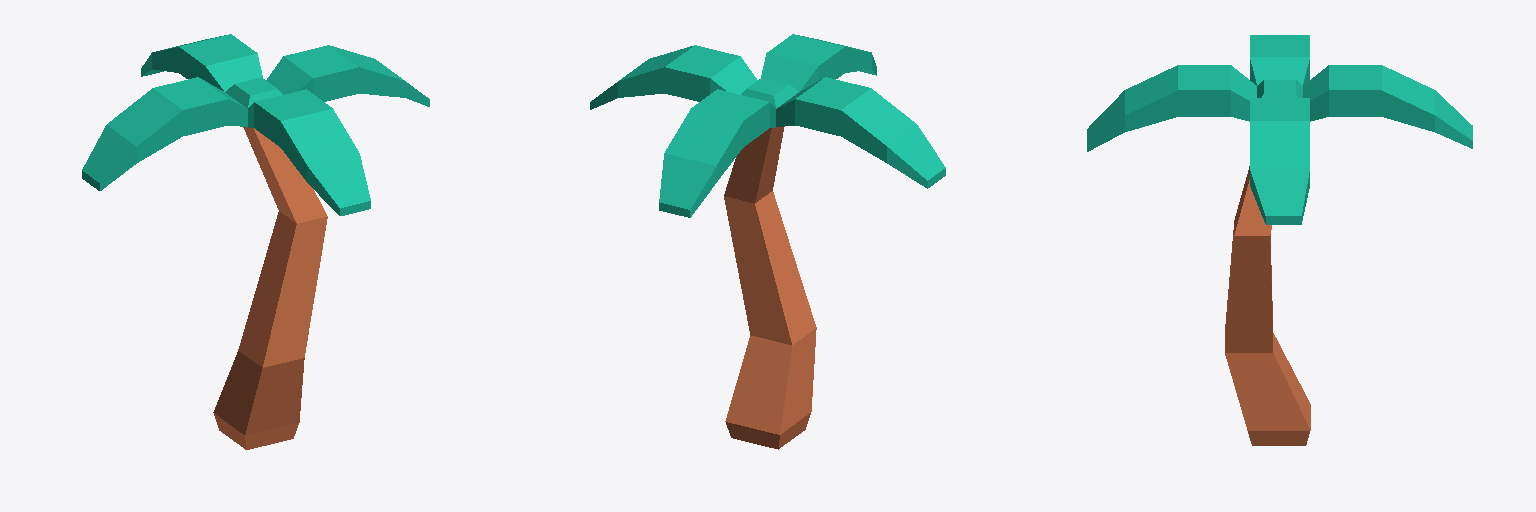
Rendered from tree_palmShort.obj.
3 renders of one model, left to right at view 1: azimuth 30°, elevation 25°; view 2: azimuth 150°, elevation 25°; view 3: azimuth 270°, elevation 25°, orthographic.
Parts seen in each view (by area): view 1: tree_palmShort; view 2: tree_palmShort; view 3: tree_palmShort.
Part boxes in pixels (x1,y1,x2,y2): tree_palmShort: (82,34,429,449); tree_palmShort: (590,34,945,449); tree_palmShort: (1087,35,1472,445).
Size of the model in its own units: 1.03 by 1.06 by 1.03.